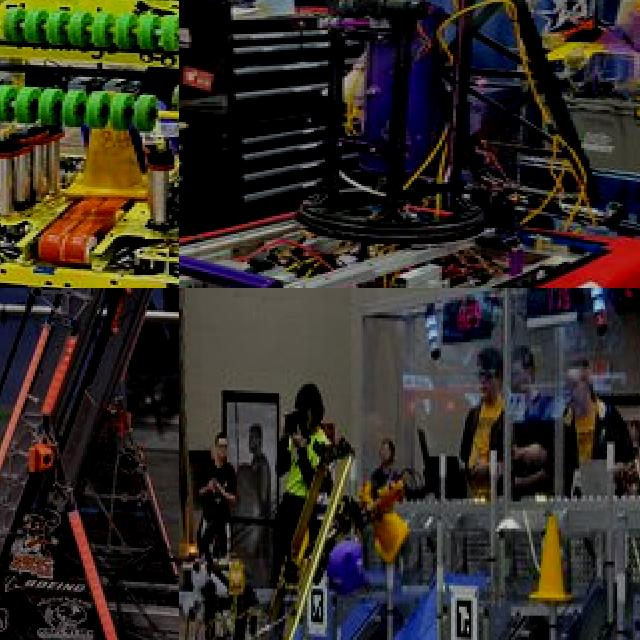FRC-Robots: (179, 0, 640, 288), (0, 288, 179, 640), (179, 411, 387, 640), (0, 0, 179, 149)
